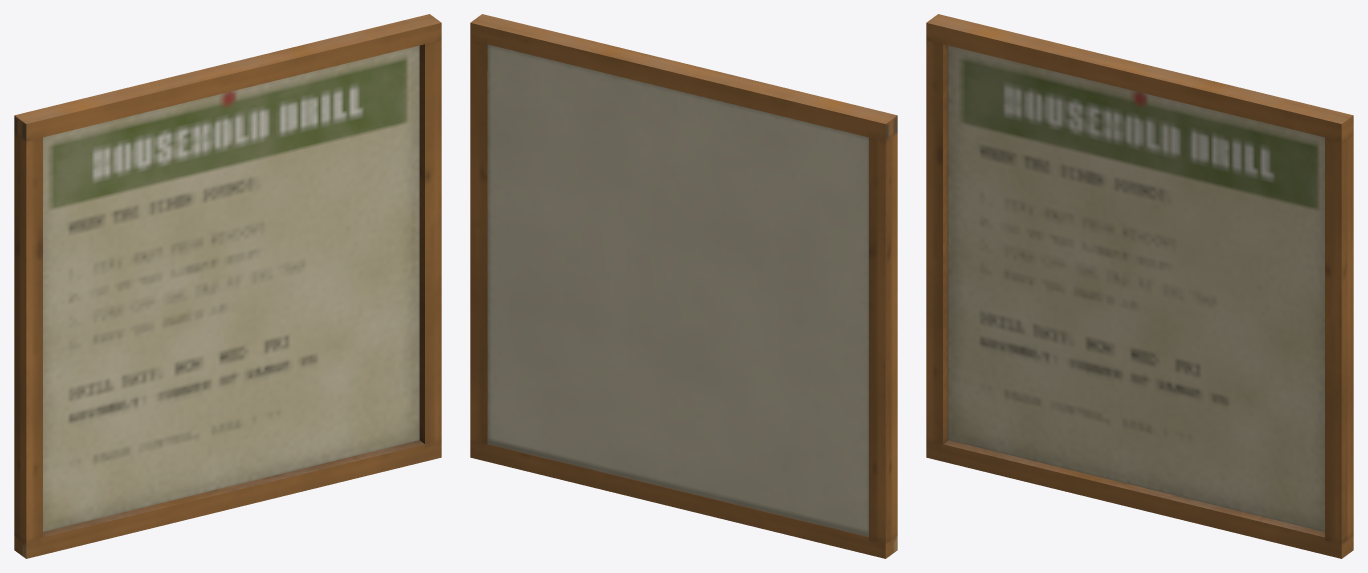
File: H_Frame_Notice.fbx
3 renders of one model, left to right at view 1: azimuth 30°, elevation 25°; view 2: azimuth 150°, elevation 25°; view 3: azimuth 330°, elevation 25°, orthographic.
Visible parts, largest first — view 1: H_Frame_Notice; view 2: H_Frame_Notice; view 3: H_Frame_Notice.
Part boxes in pixels (x1=…): H_Frame_Notice: x1=14, y1=14, x2=441, y2=558; H_Frame_Notice: x1=470, y1=14, x2=897, y2=558; H_Frame_Notice: x1=926, y1=14, x2=1353, y2=558.
Bounding box in the file's own units: 300 × 300 × 15.
Materials: 1 (1 with a texture image).
